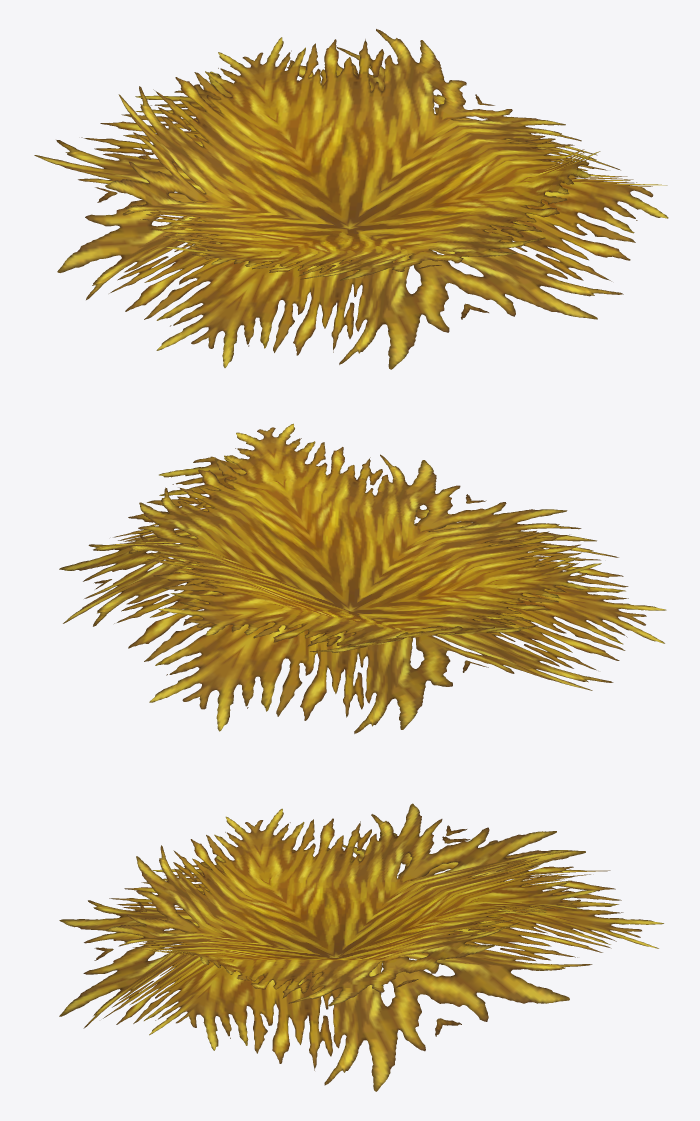
File: shadowfanghaypile02.obj
3 views of the same model, one above another, from view 1: azimuth 30°, elevation 25°; view 2: azimuth 150°, elevation 25°; view 3: azimuth 270°, elevation 25° (orthographic). The views are drawn at different scales.
Parts seen in each view (by area): view 1: shadowfanghaypile02; view 2: shadowfanghaypile02; view 3: shadowfanghaypile02.
Part boxes in pixels (x1=…): shadowfanghaypile02: x1=34, y1=29, x2=668, y2=369; shadowfanghaypile02: x1=59, y1=423, x2=666, y2=733; shadowfanghaypile02: x1=59, y1=803, x2=663, y2=1091.
Size of the model in its own units: 2.64 by 0.5388 by 2.77.
1 material, 1 textured.
